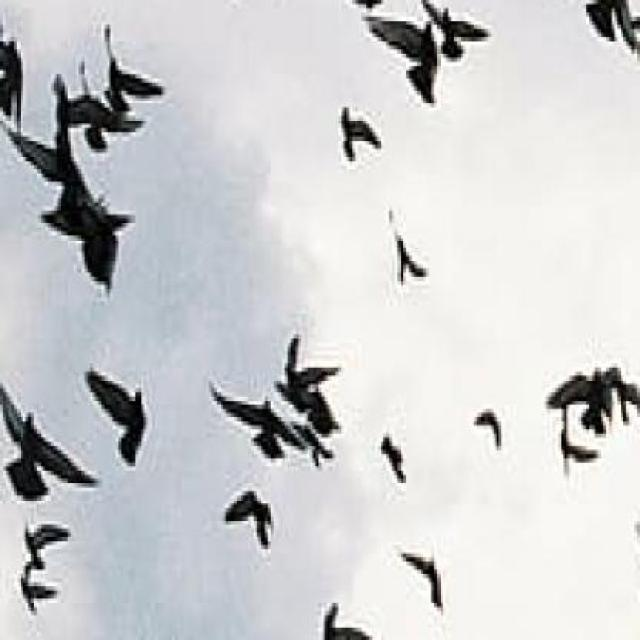bird: (0, 384, 109, 506), (37, 184, 142, 294), (7, 82, 96, 204), (74, 364, 168, 466), (67, 58, 155, 163), (359, 19, 446, 115), (321, 0, 494, 46), (369, 195, 436, 312), (200, 390, 306, 463), (552, 0, 638, 88), (388, 520, 452, 638), (101, 17, 172, 114), (355, 402, 420, 502), (560, 352, 638, 433), (211, 484, 293, 554), (419, 0, 492, 72), (328, 107, 394, 185), (270, 333, 337, 408), (299, 582, 383, 636), (538, 419, 601, 485), (534, 379, 617, 427), (15, 516, 80, 570), (0, 28, 29, 132), (290, 415, 338, 473), (8, 567, 60, 613), (474, 403, 511, 457), (222, 0, 296, 5)
